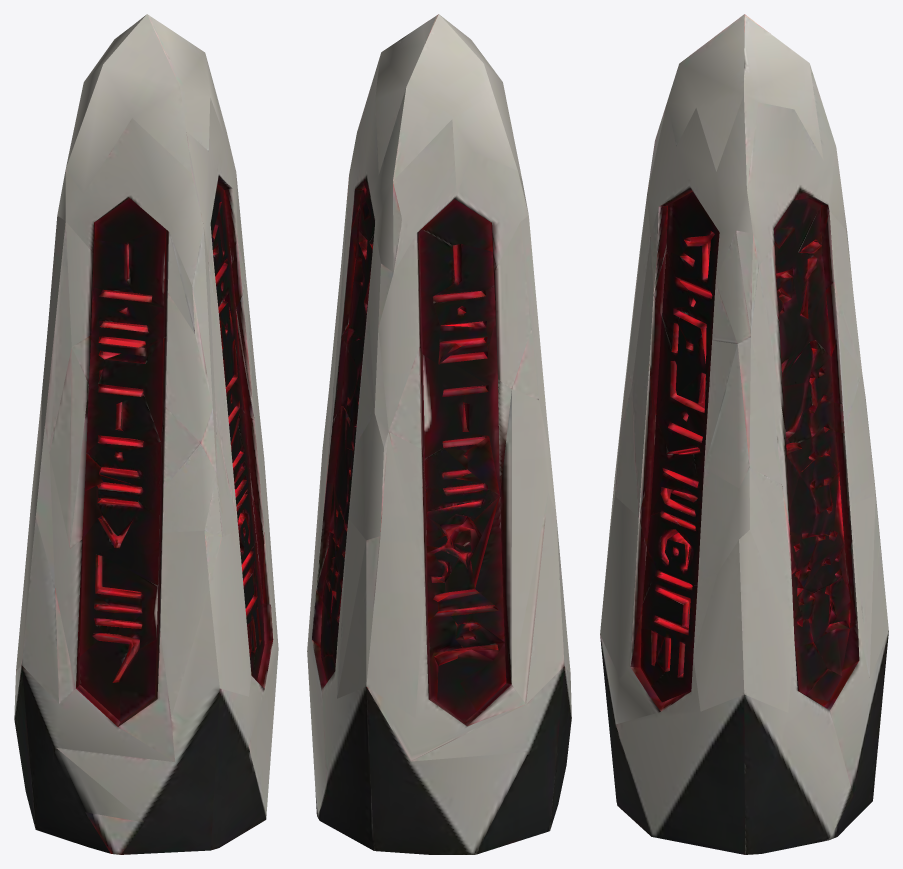
File: obelisk.glb
The picture shows the model from 3 angles, left to right: view 1: azimuth 30°, elevation 25°; view 2: azimuth 150°, elevation 25°; view 3: azimuth 270°, elevation 25°; orthographic projection.
Parts seen in each view (by area): view 1: mesh_node; view 2: mesh_node; view 3: mesh_node.
Boxes of the visible parts, box(x1,y1,x2,y2) form: mesh_node: box(14, 14, 278, 854); mesh_node: box(307, 14, 571, 854); mesh_node: box(600, 14, 888, 854).
Size of the model in its own units: 0.6331 by 1.9 by 0.6326.
1 material, 1 textured.
